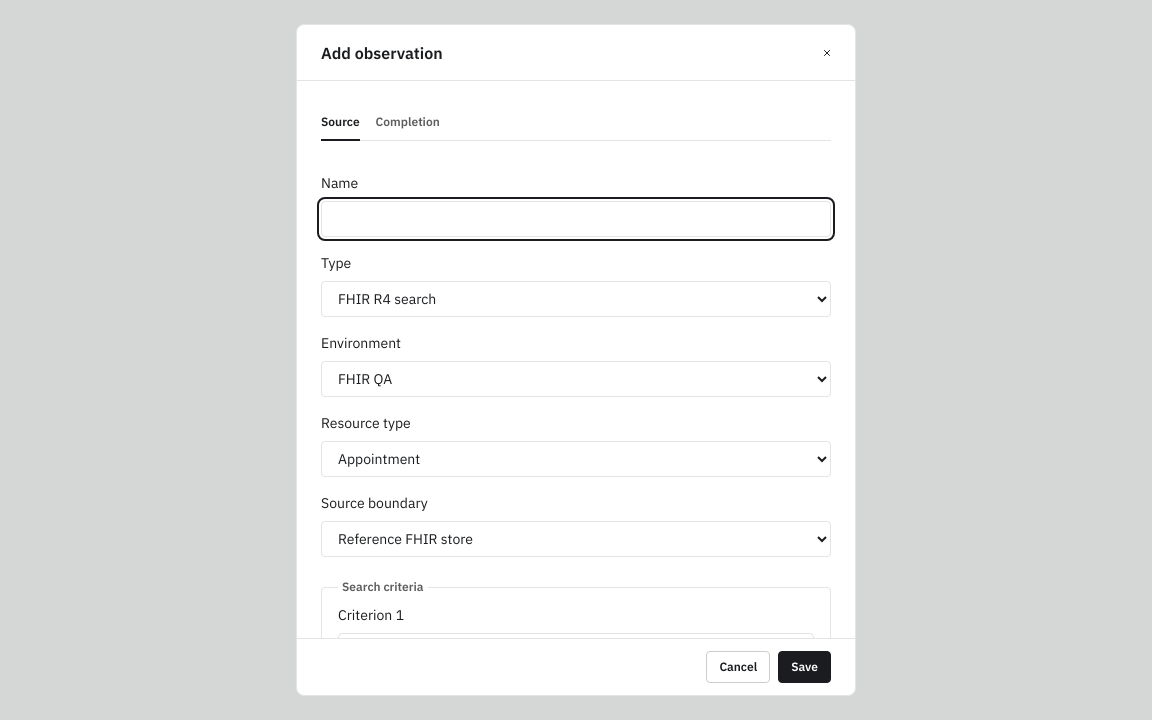
Test case: a processing barrier requires an explicit named destination and authored work step and keeps both after refusal
Step 1. Click the tab "Completion" → (408, 123), box [376,105,440,141]
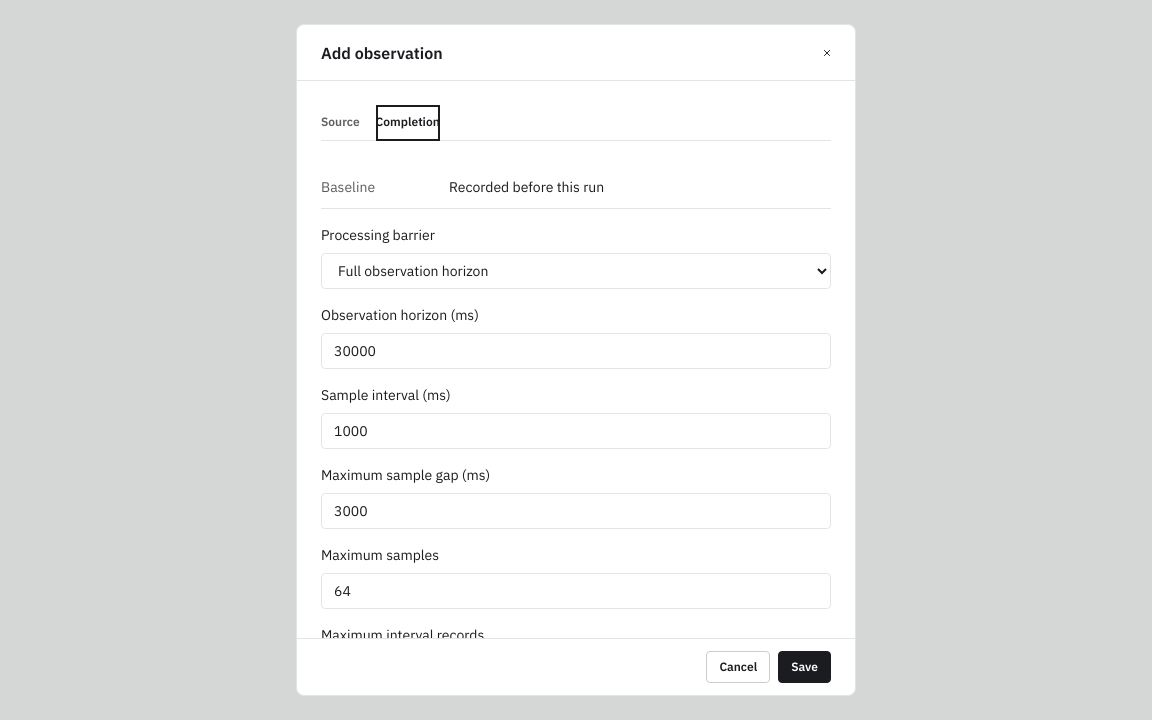
Step 2. Select "Processing receipts" in the dropdown labelled "Processing barrier" → (576, 271), box [321,253,831,289]
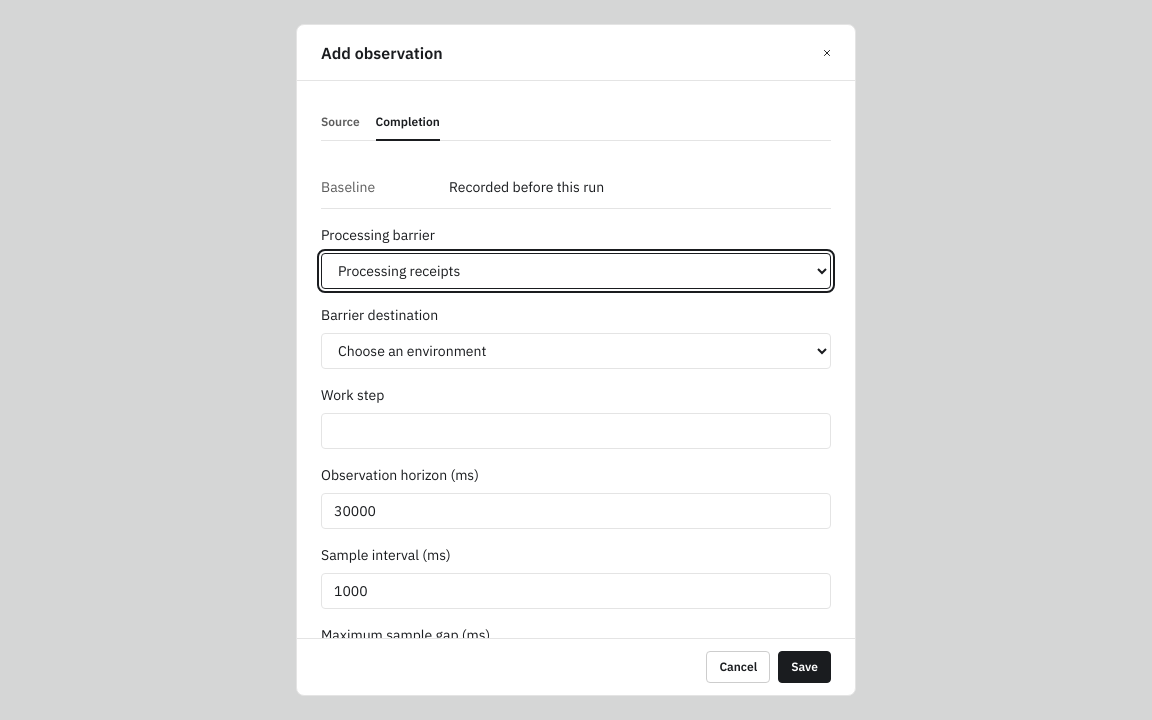
Step 3. Select "FHIR QA" in the dropdown labelled "Barrier destination" → (576, 351), box [321,333,831,369]
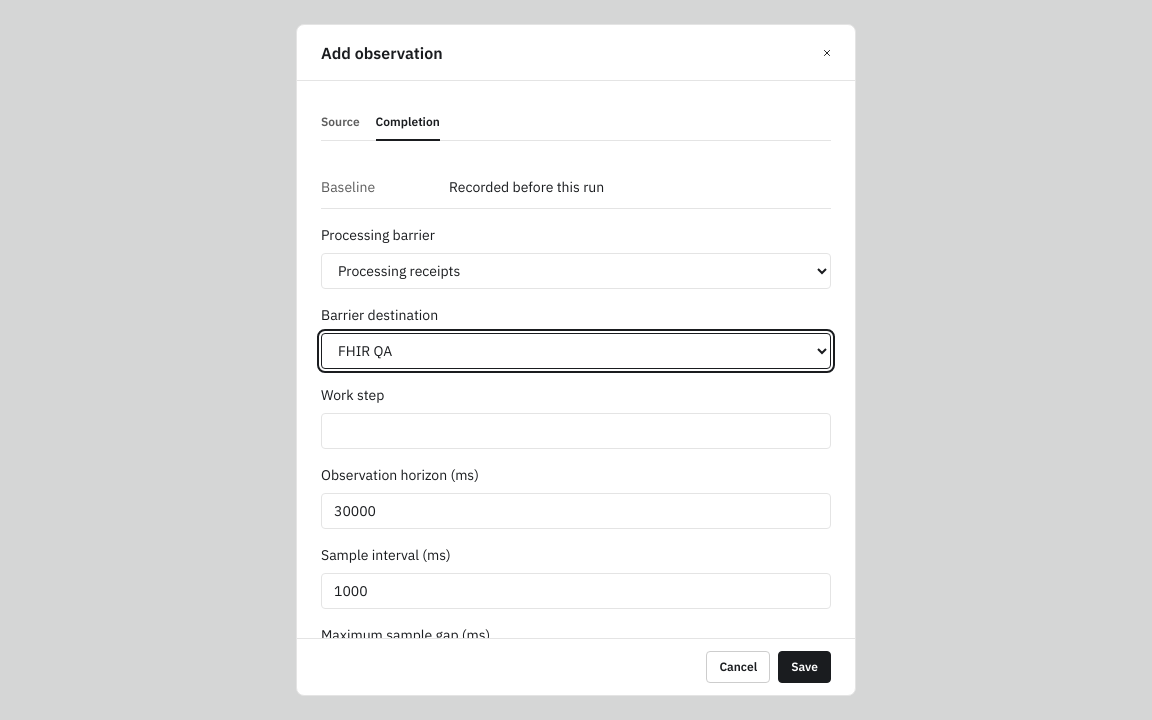
Step 4. Type "send-appointment" into the field labelled "Work step" → (576, 431), box [321,413,831,449]
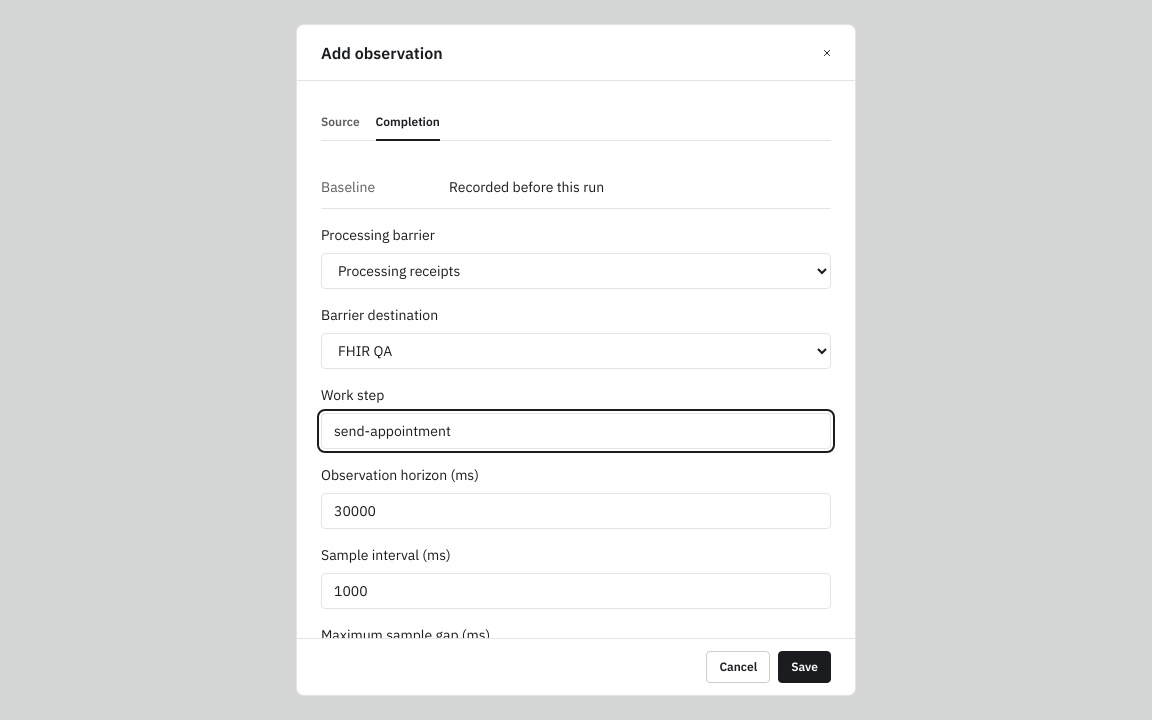
Step 5. Click the button "Save" → (805, 667), box [778,651,831,683]
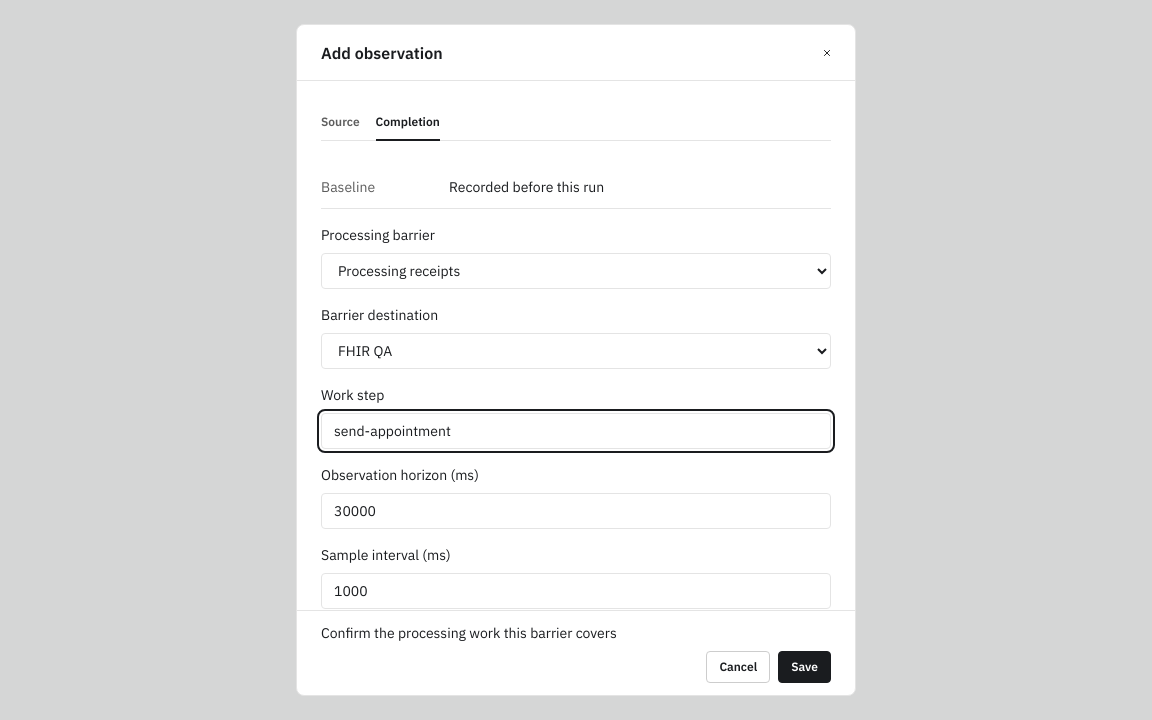
Now the text "Confirm the processing work this barrier covers" is shown, box [321,624,617,642]
